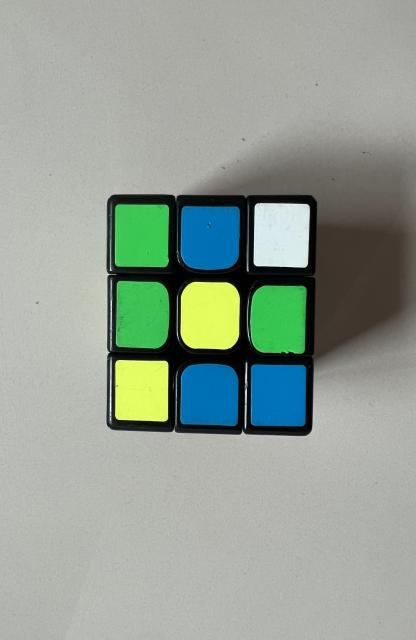Blue: (181, 206, 239, 270), (180, 364, 238, 426), (250, 365, 307, 426)
Green: (250, 285, 307, 354), (116, 281, 169, 349), (115, 204, 169, 268)
White: (254, 202, 310, 268)
Yellow: (180, 281, 239, 350), (115, 360, 169, 421)
